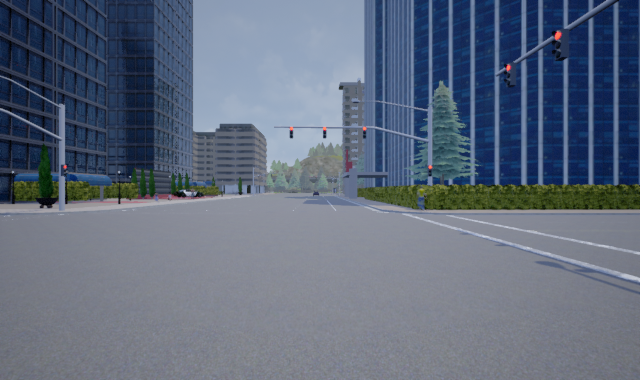pedestrian: (414, 184, 426, 210)
vehicle: (171, 189, 203, 199)
